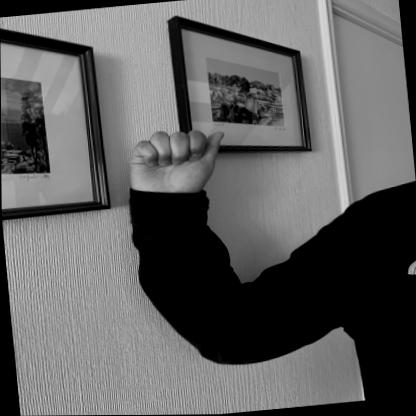A: (113, 123, 236, 209)
